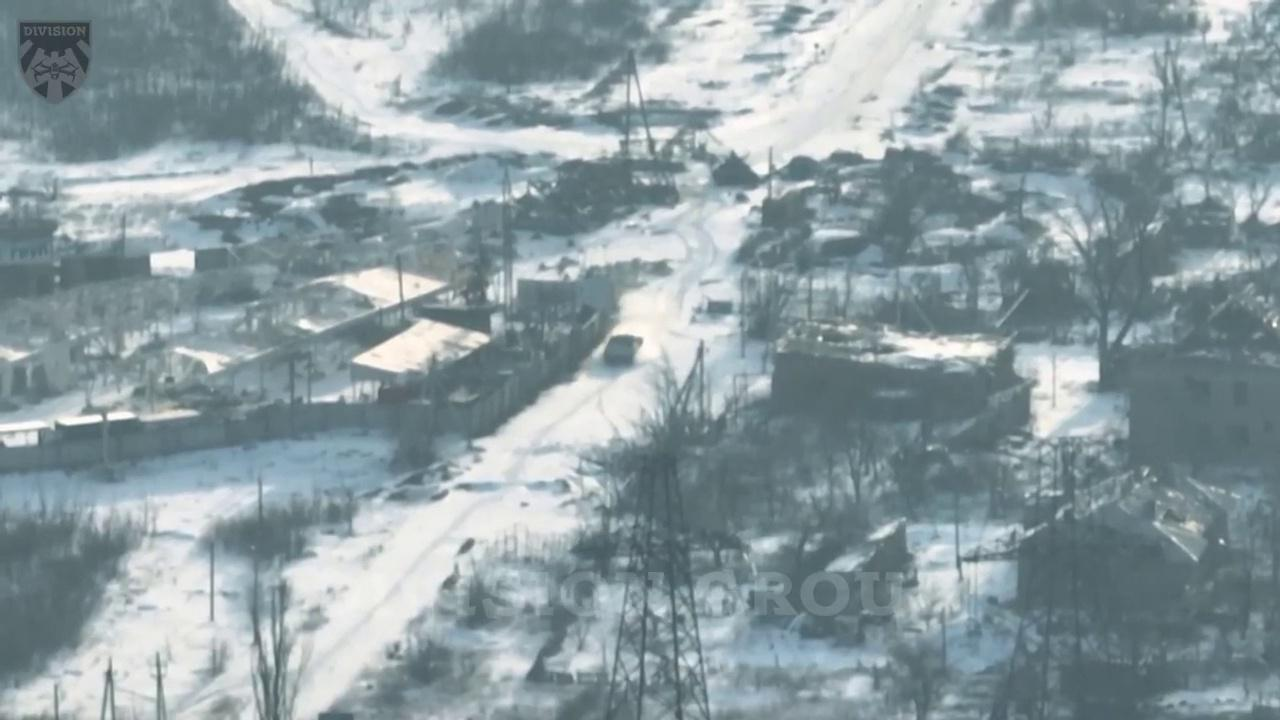vehicle: (602, 328, 648, 370), (715, 149, 761, 189), (779, 154, 820, 182)
